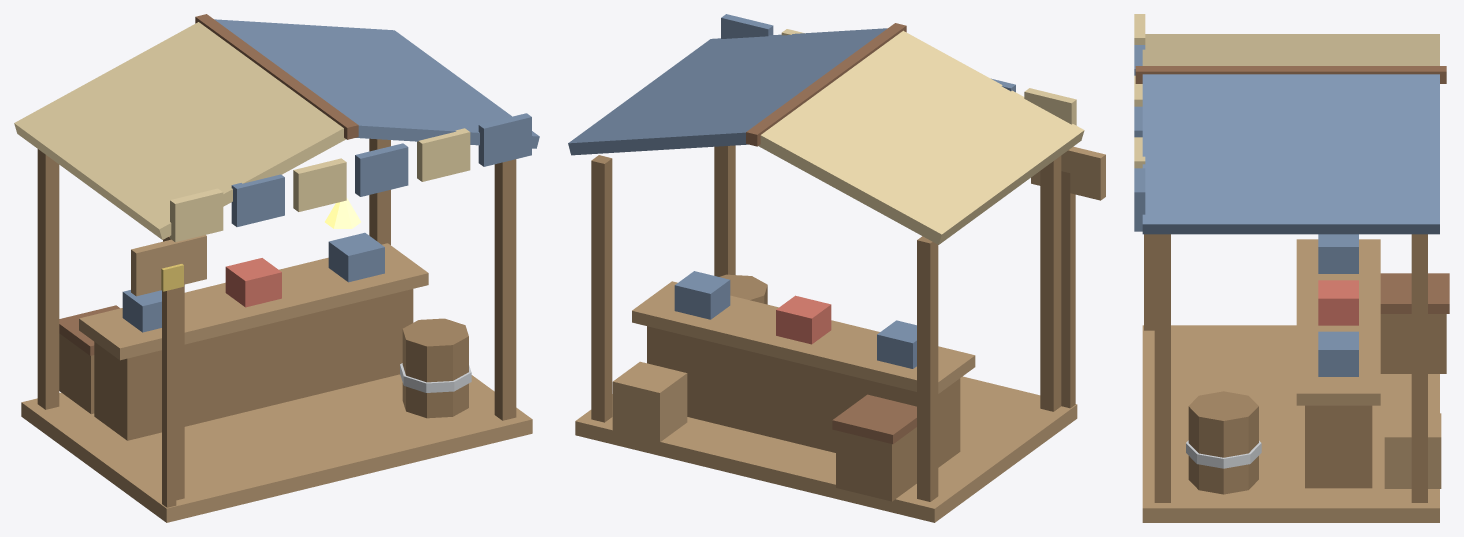
The model's file is market_stall.glb.
The picture shows the model from 3 angles, left to right: view 1: azimuth 30°, elevation 25°; view 2: azimuth 150°, elevation 25°; view 3: azimuth 270°, elevation 25°; orthographic projection. The views are drawn at different scales.
Visible parts, largest first — view 1: canopy_l, platform, counter, canopy_r, counter_top, post.002, post.001, barrel, sign_post, sign_board, ridge.001, valance.002 (+14 smaller); view 2: canopy_l, platform, canopy_r, counter, counter_top, post.003, post.001, post, crate2, crate, sign_post, crate_lid (+9 smaller); view 3: canopy_r, platform, canopy_l, counter_top, barrel, counter, post.002, post.003, crate2, crate, ridge.001, crate_lid (+7 smaller).
Part boxes in pixels (<box>): canopy_l: <box>14,22,345,239</box>; platform: <box>21,374,532,522</box>; counter: <box>94,289,413,440</box>; canopy_r: <box>214,19,539,148</box>; counter_top: <box>79,243,428,360</box>; post.002: <box>494,159,516,420</box>; post.001: <box>37,149,59,409</box>; barrel: <box>402,318,468,418</box>; sign_post: <box>162,288,176,507</box>; sign_board: <box>131,235,206,296</box>; ridge.001: <box>195,14,358,139</box>; valance.002: <box>293,158,346,211</box>; canopy_l: <box>758,30,1084,244</box>; platform: <box>575,376,1077,522</box>; canopy_r: <box>568,28,887,155</box>; counter: <box>647,326,960,467</box>; counter_top: <box>632,281,975,393</box>; post.003: <box>591,155,612,422</box>; post.001: <box>917,236,938,501</box>; post: <box>1040,156,1061,411</box>; crate2: <box>612,361,687,442</box>; crate: <box>836,427,916,501</box>; sign_post: <box>1061,171,1075,408</box>; crate_lid: <box>832,394,916,444</box>; canopy_r: <box>1142,74,1439,234</box>; platform: <box>1142,325,1439,522</box>; canopy_l: <box>1142,34,1439,65</box>; counter_top: <box>1296,239,1380,405</box>; barrel: <box>1188,391,1258,494</box>; counter: <box>1305,405,1372,488</box>; post.002: <box>1154,234,1170,502</box>; post.003: <box>1411,234,1427,502</box>; crate2: <box>1384,413,1441,488</box>; crate: <box>1380,314,1446,373</box>; ridge.001: <box>1135,66,1446,83</box>; crate_lid: <box>1380,273,1449,313</box>.
Bounding box in the file's own units: 3.52 × 2.96 × 2.33.
